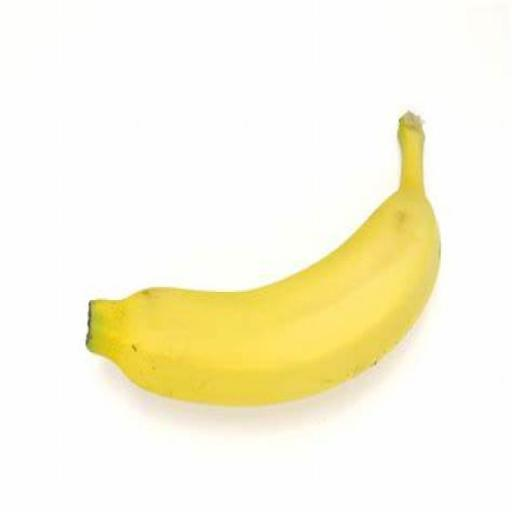fruit: (86, 112, 438, 403)
